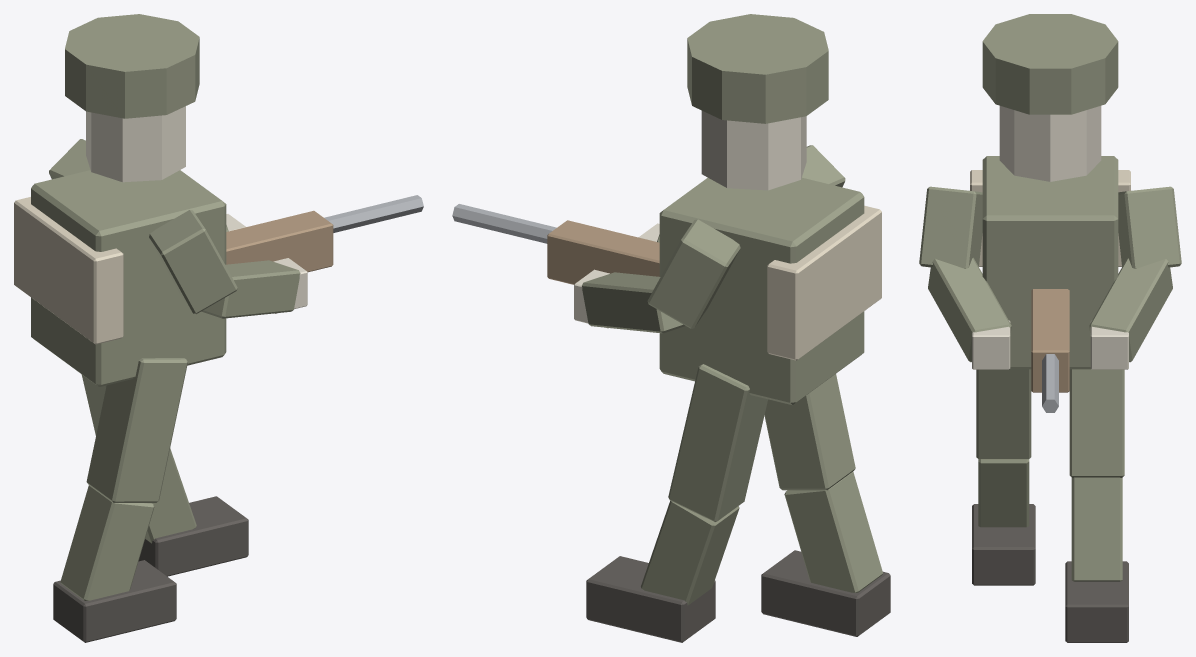
Rendered from infantry_walk_0.glb.
The picture shows the model from 3 angles, left to right: view 1: azimuth 30°, elevation 25°; view 2: azimuth 150°, elevation 25°; view 3: azimuth 270°, elevation 25°; orthographic projection. The views are drawn at different scales.
Parts seen in each view (by area): view 1: Jacket, Helmet, Webbing, Upper leg, Lower leg, Face, Boot, Boot.001, Upper sleeve, Rifle stock, Lower sleeve, Lower leg.001 (+4 smaller); view 2: Jacket, Helmet, Webbing, Upper leg.001, Lower leg, Upper leg, Face, Boot.001, Boot, Lower leg.001, Upper sleeve.001, Rifle stock (+4 smaller); view 3: Jacket, Helmet, Face, Upper leg.001, Lower leg.001, Upper leg, Upper sleeve, Upper sleeve.001, Lower sleeve, Lower sleeve.001, Boot.001, Boot (+6 smaller).
Part boxes in pixels (bbox=[...]): Jacket: bbox=[31, 170, 226, 386]; Helmet: bbox=[65, 14, 199, 118]; Webbing: bbox=[14, 197, 123, 344]; Upper leg: bbox=[86, 358, 187, 502]; Lower leg: bbox=[60, 485, 154, 600]; Face: bbox=[86, 106, 185, 182]; Boot: bbox=[53, 560, 176, 642]; Boot.001: bbox=[138, 496, 248, 576]; Upper sleeve: bbox=[149, 210, 237, 314]; Rifle stock: bbox=[226, 210, 333, 272]; Lower sleeve: bbox=[201, 260, 300, 318]; Lower leg.001: bbox=[145, 448, 196, 543]; Jacket: bbox=[659, 177, 864, 405]; Helmet: bbox=[687, 14, 828, 123]; Webbing: bbox=[767, 205, 881, 360]; Upper leg.001: bbox=[668, 364, 767, 521]; Lower leg: bbox=[784, 472, 883, 592]; Upper leg: bbox=[764, 374, 855, 490]; Face: bbox=[701, 111, 806, 190]; Boot.001: bbox=[586, 556, 715, 642]; Boot: bbox=[761, 550, 890, 636]; Lower leg.001: bbox=[641, 501, 739, 605]; Upper sleeve.001: bbox=[647, 219, 740, 328]; Rifle stock: bbox=[547, 220, 659, 284]; Jacket: bbox=[982, 156, 1118, 369]; Helmet: bbox=[982, 14, 1118, 114]; Face: bbox=[999, 106, 1101, 181]; Upper leg.001: bbox=[1069, 369, 1124, 477]; Lower leg.001: bbox=[1071, 477, 1122, 581]; Upper leg: bbox=[976, 369, 1031, 459]; Upper sleeve: bbox=[919, 186, 982, 268]; Upper sleeve.001: bbox=[1118, 186, 1181, 268]; Lower sleeve: bbox=[928, 257, 1011, 362]; Lower sleeve.001: bbox=[1089, 257, 1172, 362]; Boot.001: bbox=[1065, 561, 1128, 642]; Boot: bbox=[972, 504, 1035, 585].
Bounding box in the file's own units: 0.1005 × 0.141 × 0.0619.
